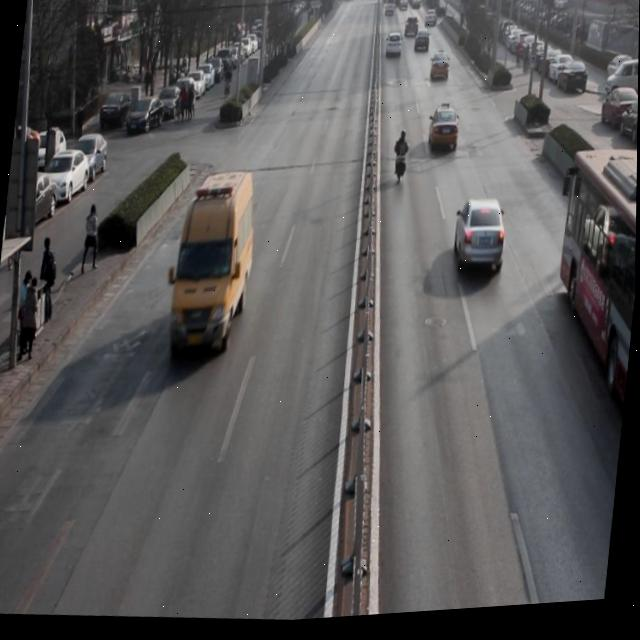car: (448, 199, 511, 296), (426, 106, 463, 163), (430, 56, 453, 92), (384, 34, 404, 69), (415, 31, 432, 62), (404, 17, 421, 46)
truck: (166, 170, 266, 374)
van: (545, 154, 638, 419)
